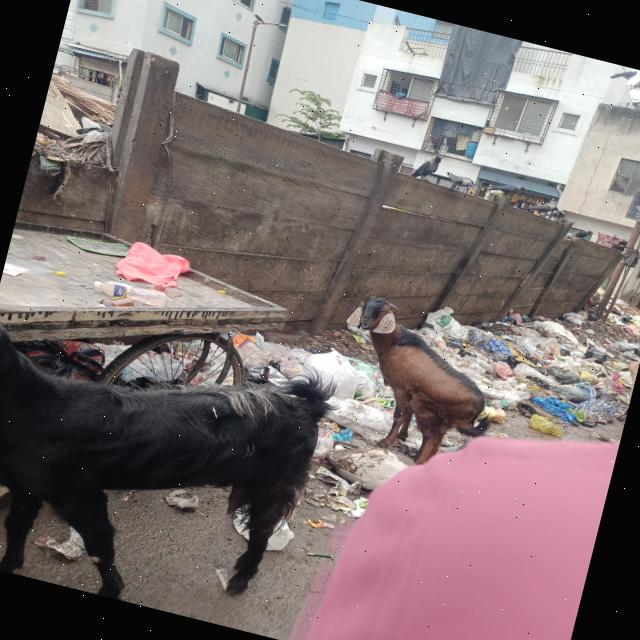garbage: (212, 328, 433, 491), (409, 304, 640, 421)
